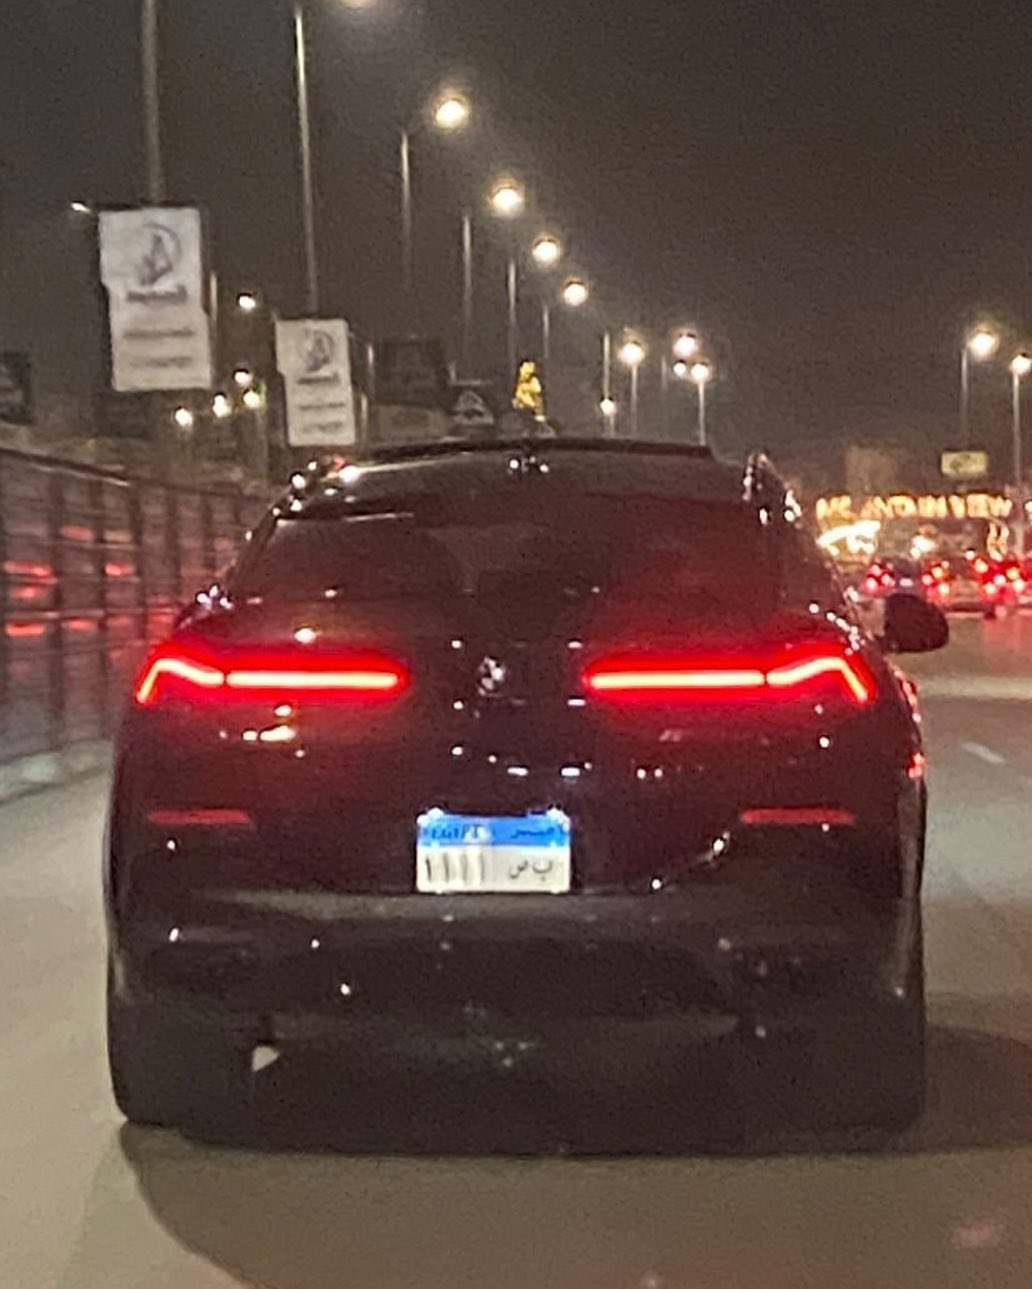carpl: (408, 785, 580, 900)
